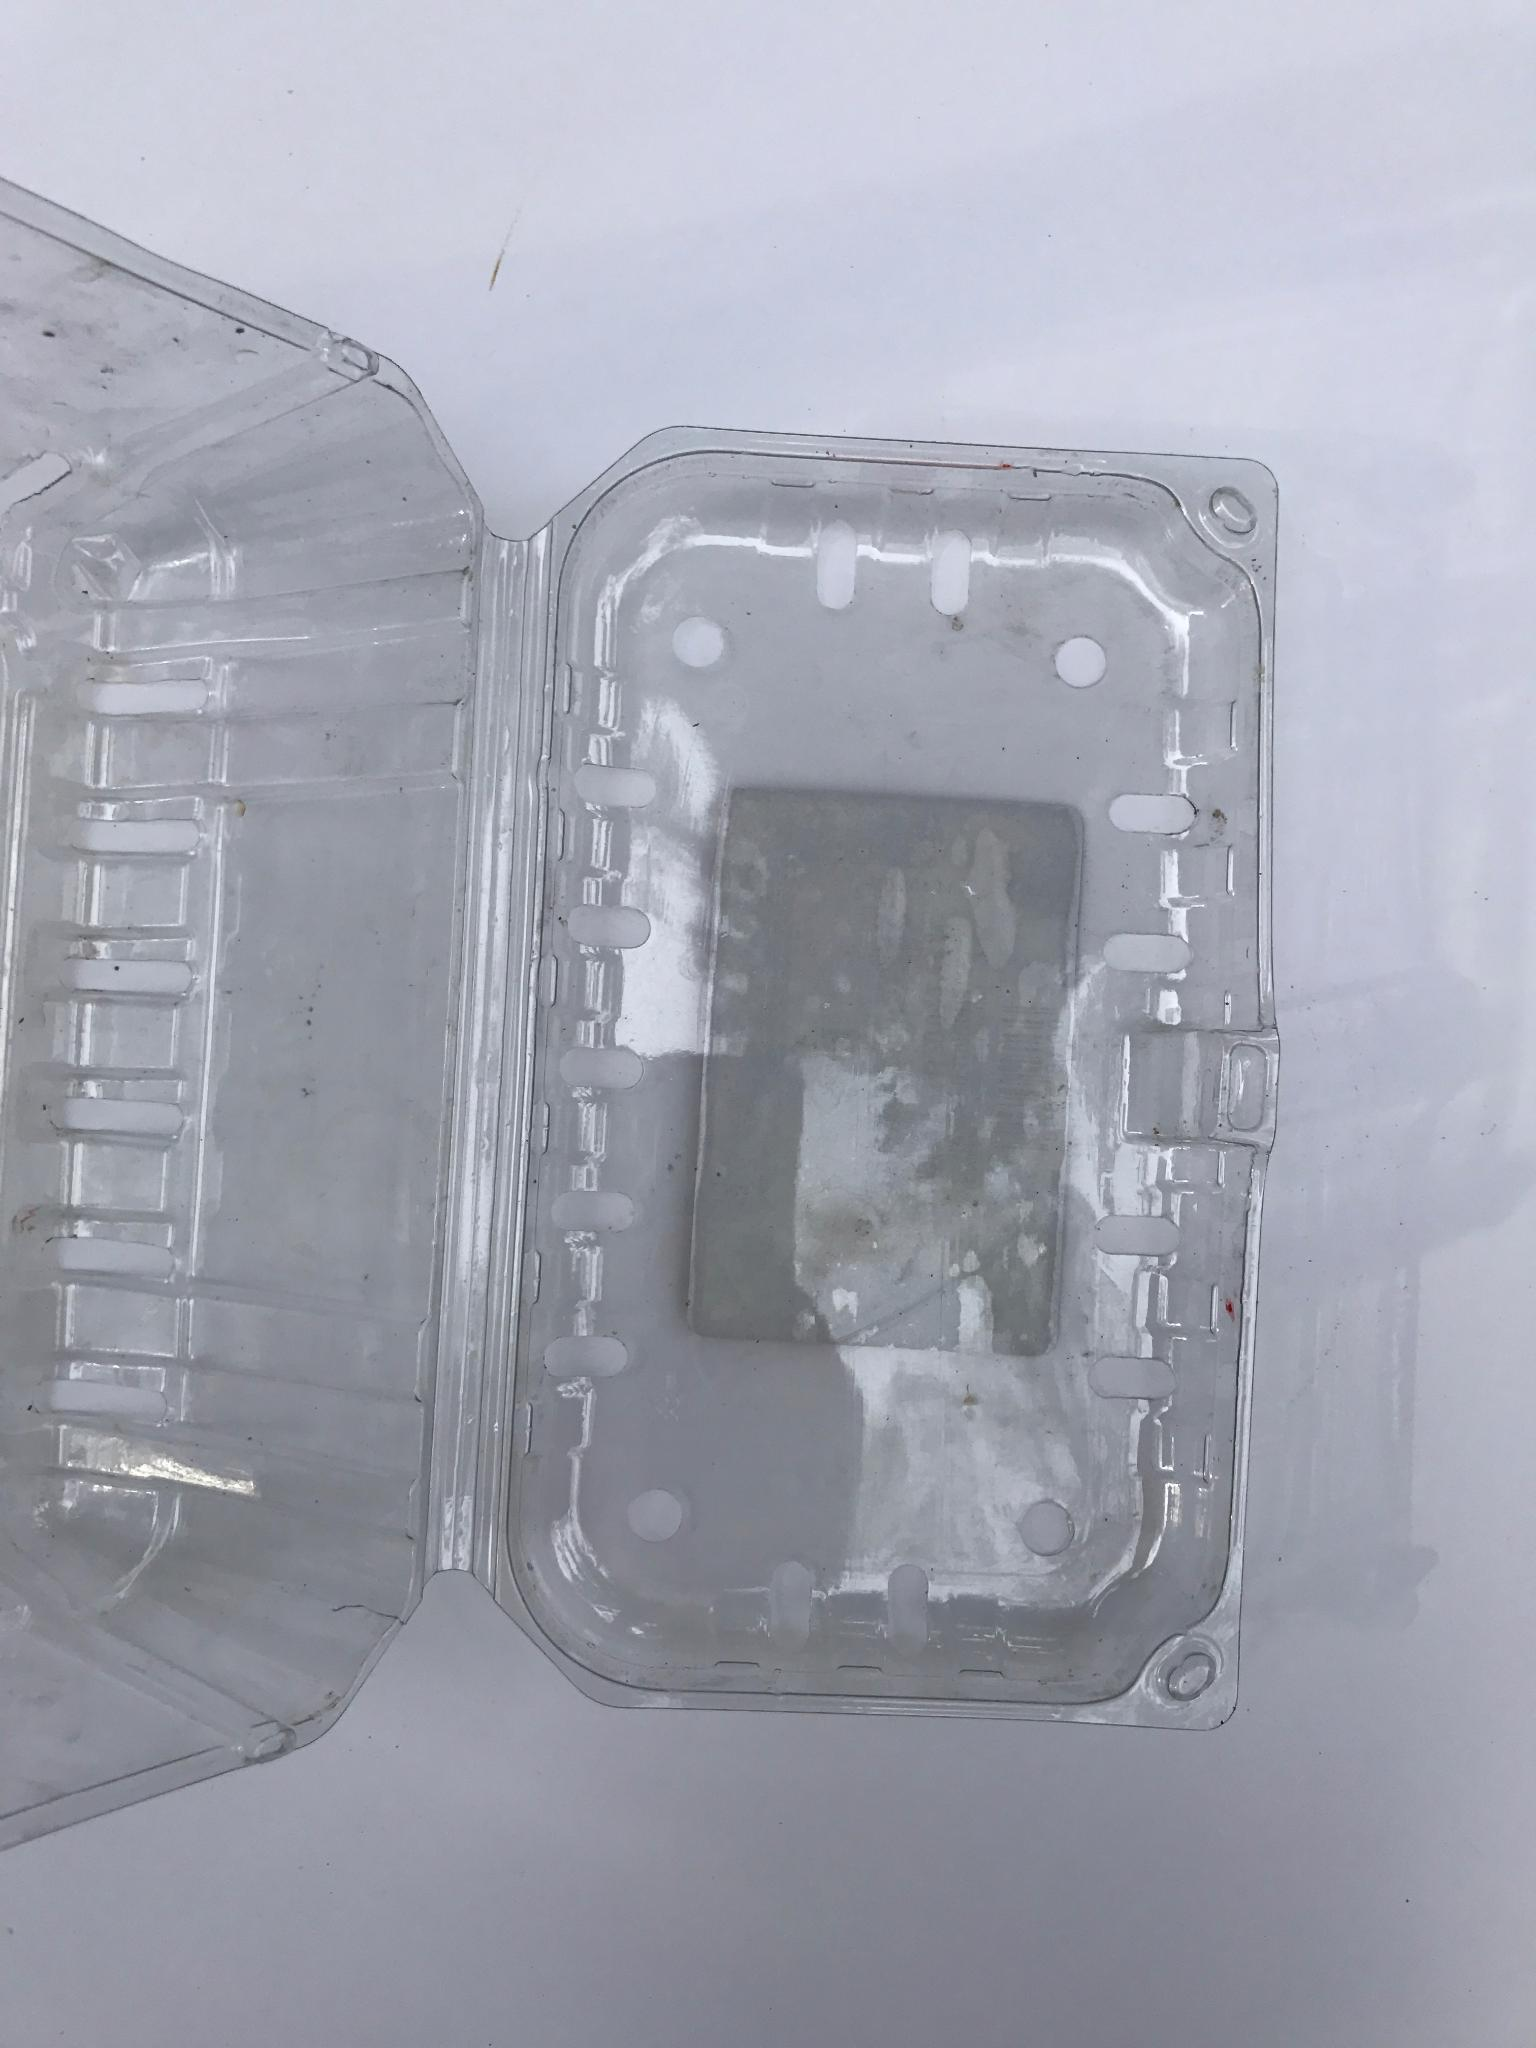Plastic: (0, 171, 1297, 1867)
